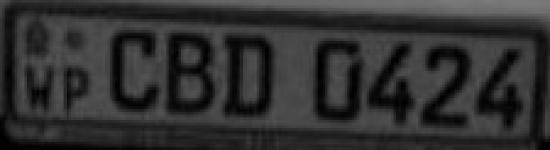0: (304, 36, 365, 126)
2: (420, 39, 476, 131)
4: (474, 40, 531, 131), (364, 36, 418, 128)
B: (161, 25, 217, 118)
C: (101, 24, 161, 115)
D: (220, 29, 276, 122)
P: (60, 63, 91, 119)
W: (21, 61, 60, 119)
